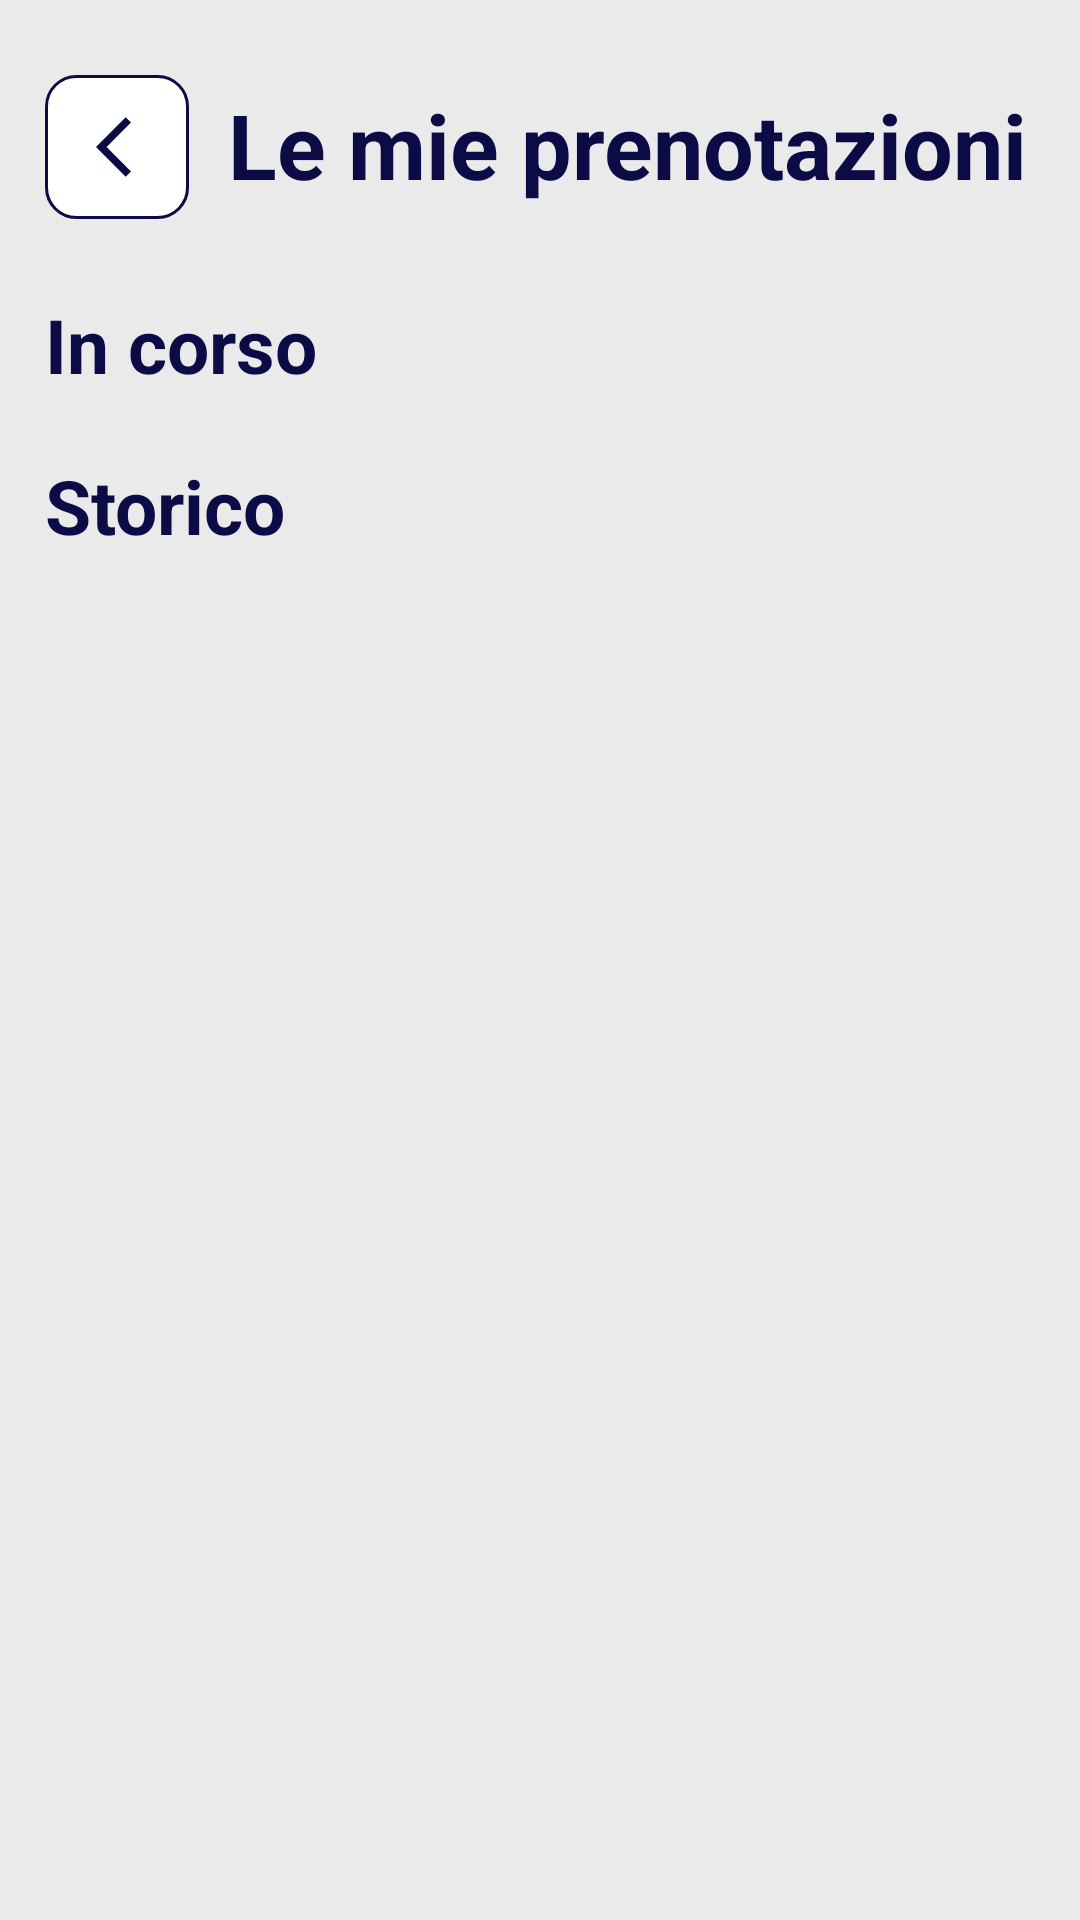

Where icons sit on this 1080px x 1920px app screen, as {"x1": x1, "y1": y1, "x2": x2, "y2": y2}:
Indietro: {"x1": 45, "y1": 75, "x2": 189, "y2": 219}
